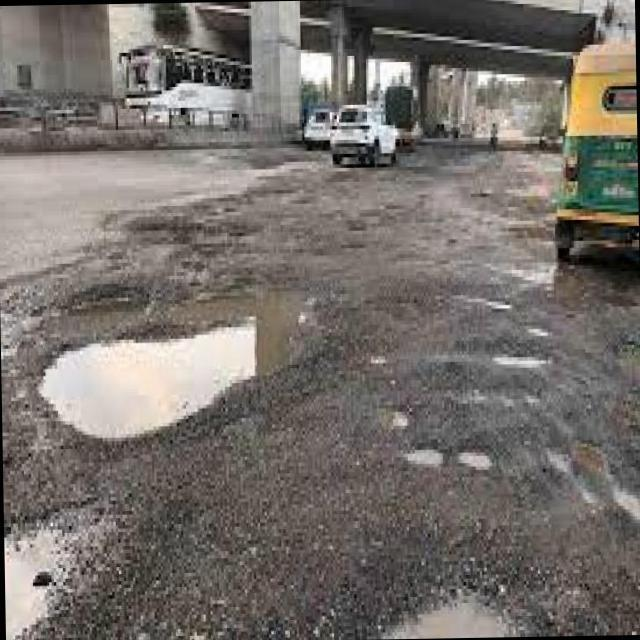Pothole: (37, 291, 311, 442), (4, 512, 113, 640)
